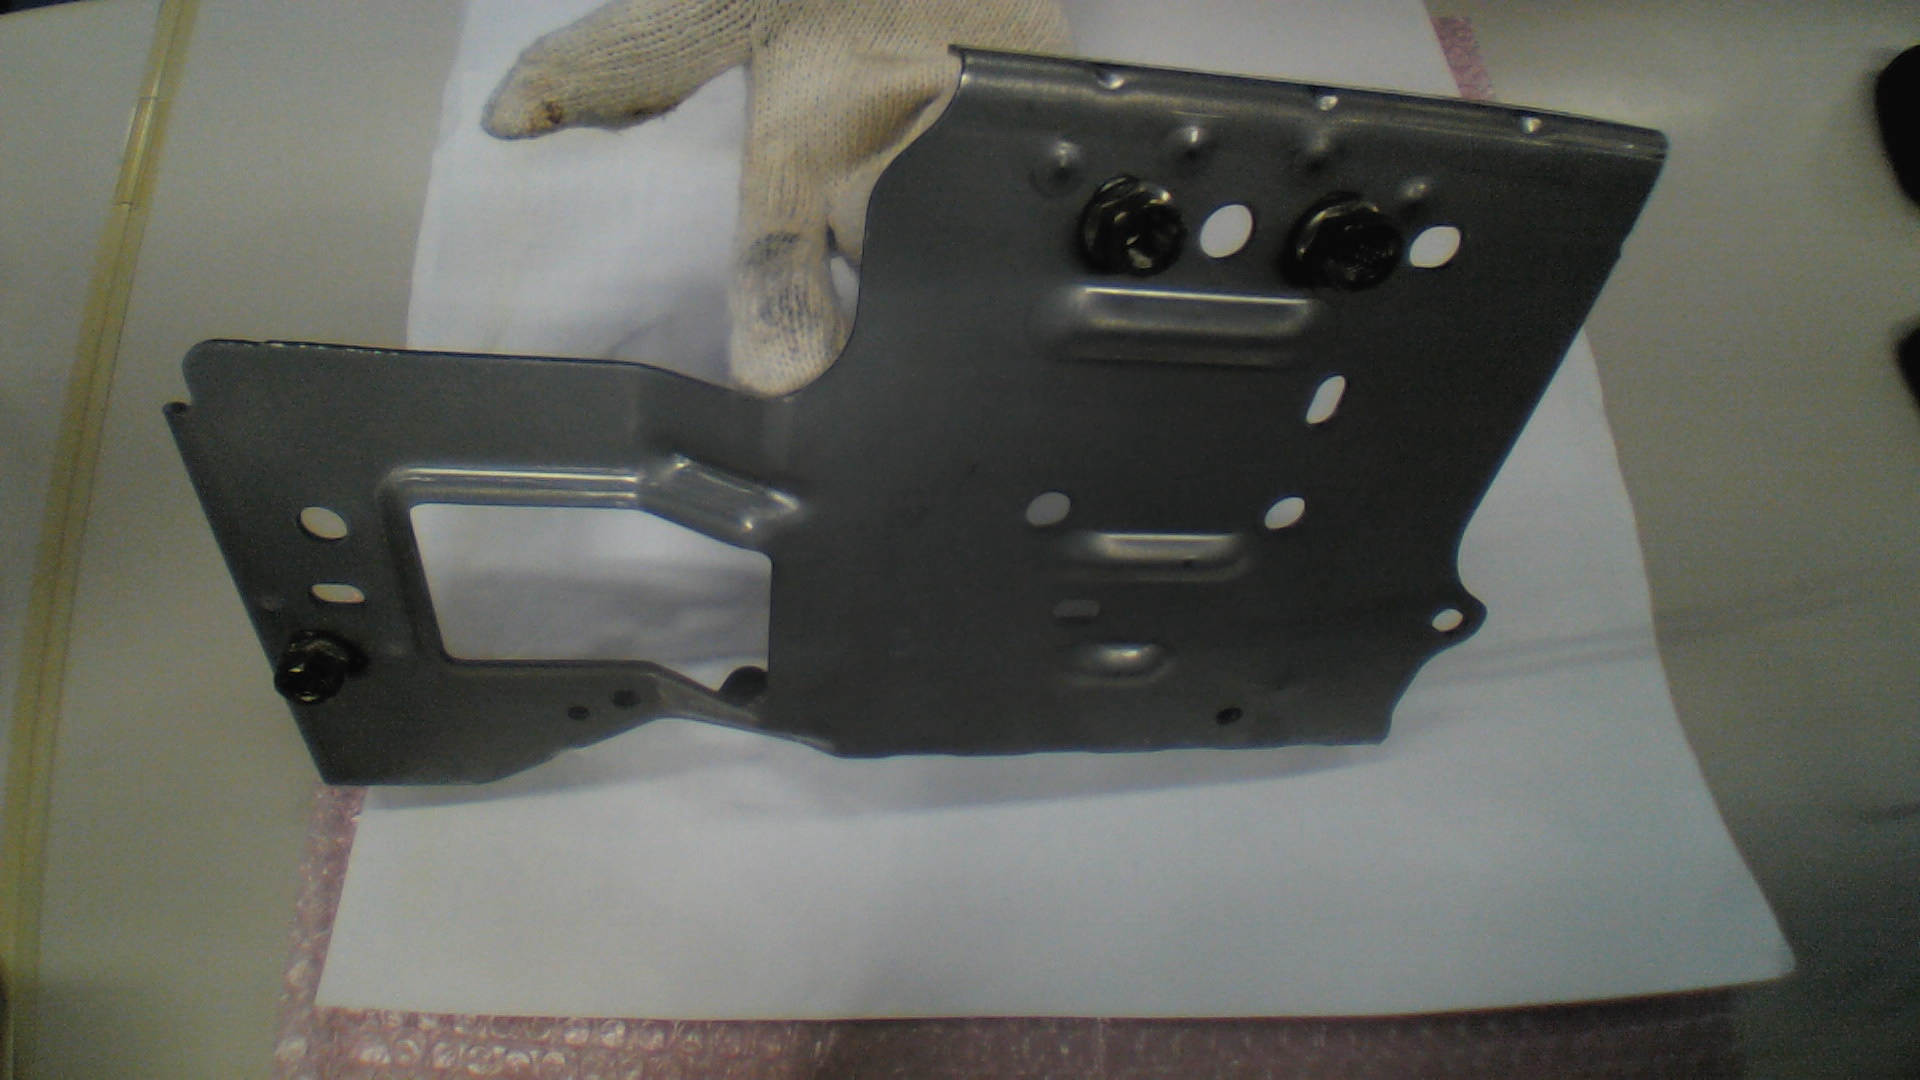dog: (1076, 177, 1188, 280), (1288, 196, 1400, 295), (276, 637, 359, 707)
